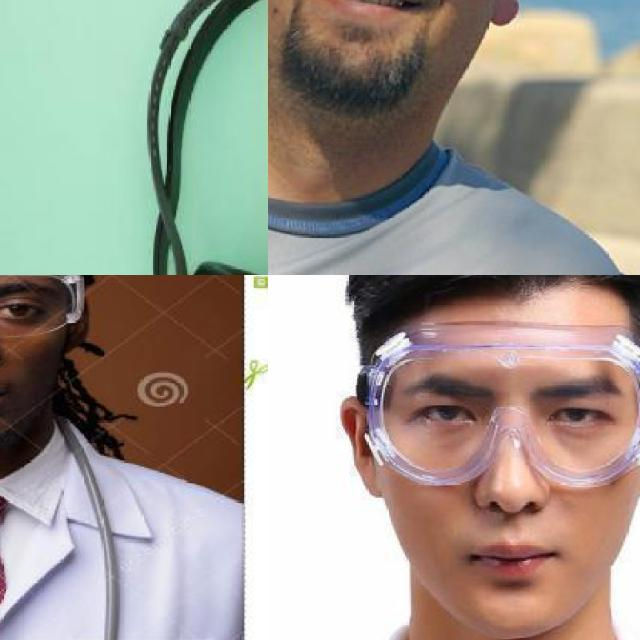Ear-protection: (141, 0, 268, 275)
No_Ear-Protection: (488, 0, 543, 36)
face_nomask: (403, 384, 618, 602), (268, 0, 495, 54), (0, 280, 54, 428)
glasses: (356, 322, 640, 488), (0, 275, 87, 345)
head_nohelmet: (351, 275, 640, 323)
person: (268, 275, 640, 640), (0, 275, 246, 640)
